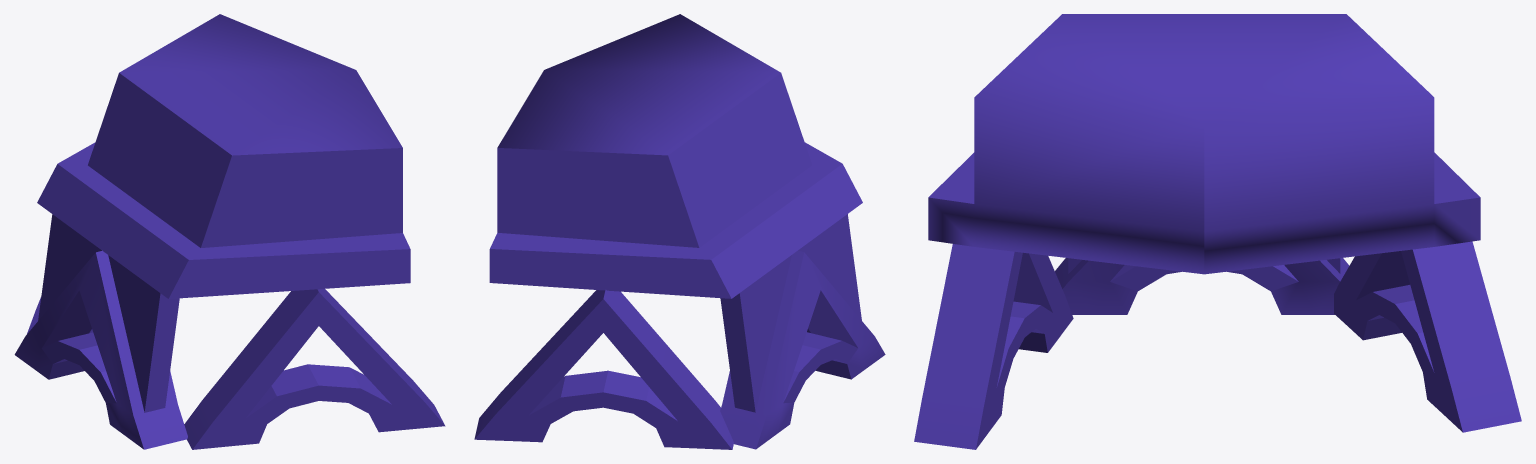
File: Statues_Basement_02_Lod0.fbx
3 renders of one model, left to right at view 1: azimuth 30°, elevation 25°; view 2: azimuth 150°, elevation 25°; view 3: azimuth 270°, elevation 25°, orthographic. The views are drawn at different scales.
Parts seen in each view (by area): view 1: Statues_Basement_02_Lod0; view 2: Statues_Basement_02_Lod0; view 3: Statues_Basement_02_Lod0.
Part boxes in pixels (<box>): Statues_Basement_02_Lod0: <box>14,14,445,449</box>; Statues_Basement_02_Lod0: <box>474,14,885,449</box>; Statues_Basement_02_Lod0: <box>914,14,1521,449</box>.
Bounding box in the file's own units: 58.58 × 53.59 × 88.63.
